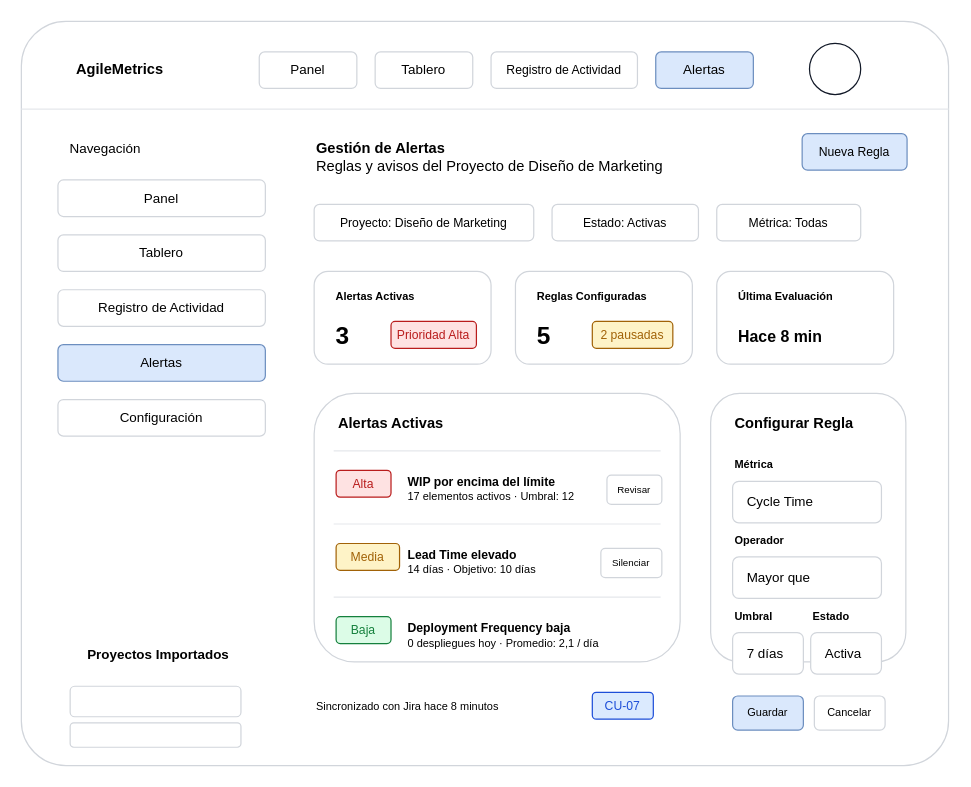
The diagram is 971 pixels wide and 787 high, and some of its shapes have lost their labels. The shapes that lost their labels are listed below. From the top down, each one's centre as x and y in pixels, then its label:
At point (834, 68): "Usuario".
At point (155, 701): "Diseño de Marketing".
At point (155, 734): "Aplicación Móvil V2".
